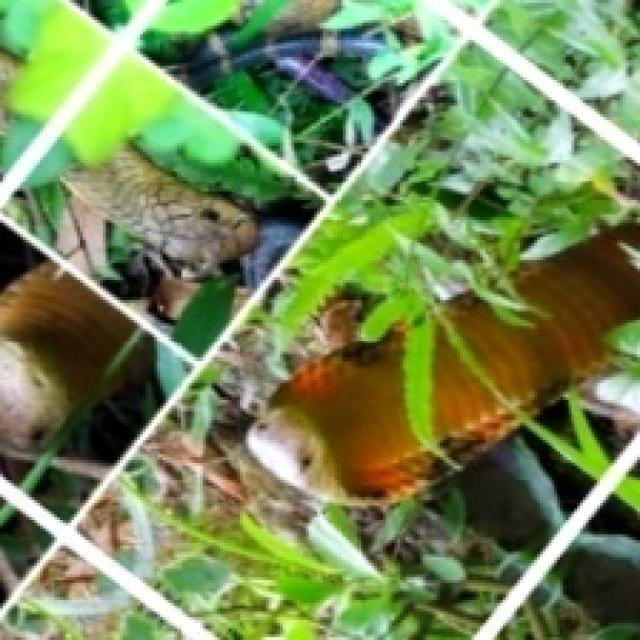king cobra: (429, 234, 637, 460), (246, 329, 440, 503)
